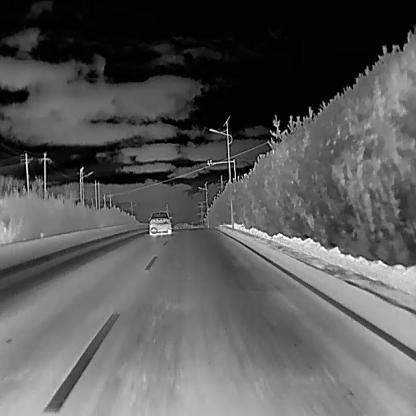car: (148, 210, 172, 234)
